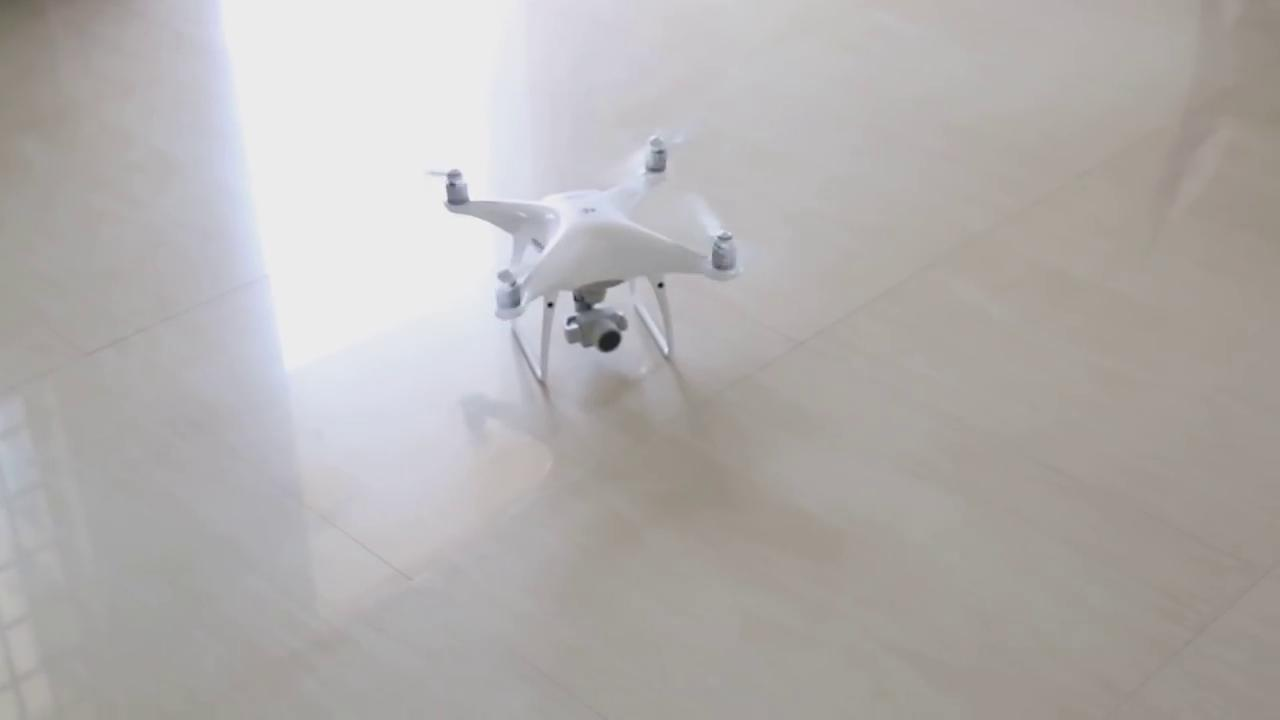drone: (426, 127, 782, 342)
